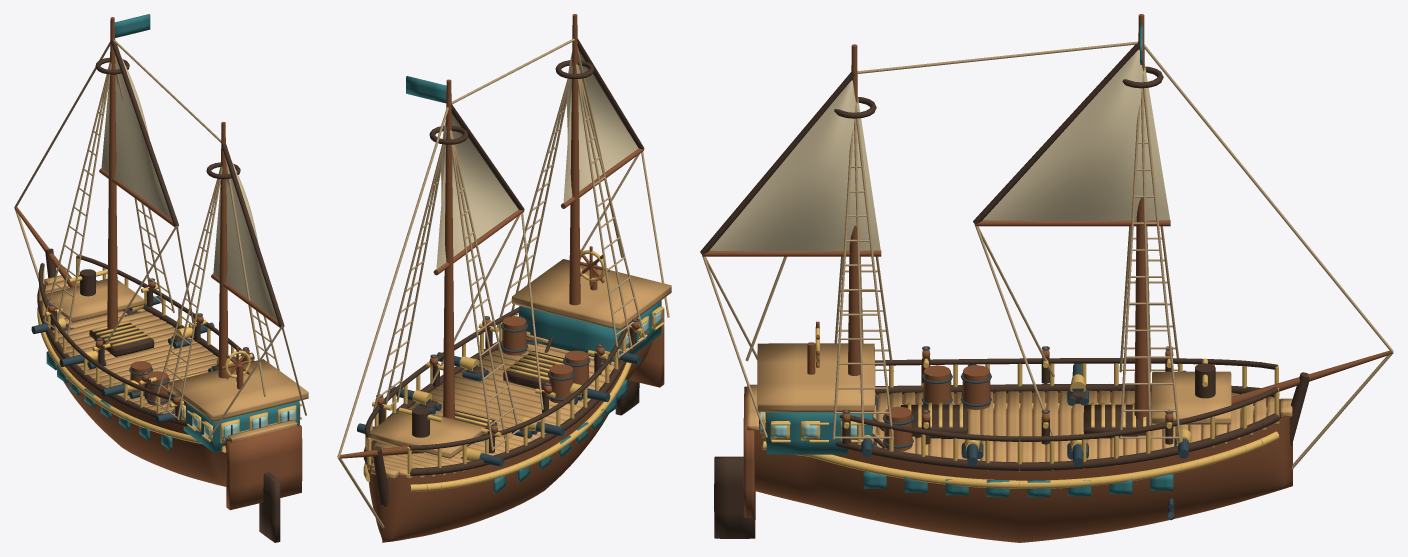
File: caravel.glb
3 renders of one model, left to right at view 1: azimuth 30°, elevation 25°; view 2: azimuth 150°, elevation 25°; view 3: azimuth 270°, elevation 25°, orthographic. The views are drawn at different scales.
Visible parts, largest first — view 1: _MeshInstance3D_5, _MeshInstance3D_6, _MeshInstance3D_10, _MeshInstance3D_11, _MeshInstance3D_8, _MeshInstance3D_3, _MeshInstance3D_4, _MeshInstance3D_7, _MeshInstance3D_12, _MeshInstance3D_9; view 2: _MeshInstance3D_5, _MeshInstance3D_6, _MeshInstance3D_11, _MeshInstance3D_10, _MeshInstance3D_8, _MeshInstance3D_7, _MeshInstance3D_3, _MeshInstance3D_4, _MeshInstance3D_12; view 3: _MeshInstance3D_5, _MeshInstance3D_6, _MeshInstance3D_10, _MeshInstance3D_11, _MeshInstance3D_3, _MeshInstance3D_4, _MeshInstance3D_8, _MeshInstance3D_7, _MeshInstance3D_12.
Boxes of the visible parts, left/top/right/bottom form: _MeshInstance3D_5: left=14, top=17, right=302, bottom=510; _MeshInstance3D_6: left=44, top=275, right=308, bottom=441; _MeshInstance3D_10: left=37, top=39, right=295, bottom=542; _MeshInstance3D_11: left=15, top=39, right=306, bottom=439; _MeshInstance3D_8: left=37, top=255, right=301, bottom=452; _MeshInstance3D_3: left=101, top=54, right=171, bottom=219; _MeshInstance3D_4: left=213, top=160, right=277, bottom=320; _MeshInstance3D_7: left=46, top=14, right=299, bottom=453; _MeshInstance3D_12: left=31, top=278, right=254, bottom=423; _MeshInstance3D_9: left=181, top=407, right=294, bottom=440; _MeshInstance3D_5: left=337, top=14, right=664, bottom=542; _MeshInstance3D_6: left=365, top=259, right=671, bottom=479; _MeshInstance3D_11: left=337, top=38, right=669, bottom=528; _MeshInstance3D_10: left=363, top=38, right=644, bottom=506; _MeshInstance3D_8: left=363, top=250, right=664, bottom=491; _MeshInstance3D_7: left=406, top=76, right=661, bottom=493; _MeshInstance3D_3: left=436, top=114, right=518, bottom=269; _MeshInstance3D_4: left=563, top=51, right=638, bottom=203; _MeshInstance3D_12: left=357, top=291, right=641, bottom=466; _MeshInstance3D_5: left=702, top=14, right=1392, bottom=542; _MeshInstance3D_6: left=747, top=343, right=1292, bottom=462; _MeshInstance3D_10: left=700, top=41, right=1309, bottom=538; _MeshInstance3D_11: left=701, top=41, right=1393, bottom=469; _MeshInstance3D_3: left=983, top=49, right=1169, bottom=220; _MeshInstance3D_4: left=709, top=80, right=880, bottom=251; _MeshInstance3D_8: left=762, top=327, right=1279, bottom=488; _MeshInstance3D_7: left=765, top=23, right=1173, bottom=497; _MeshInstance3D_12: left=842, top=346, right=1189, bottom=520.
Size of the model in its own units: 2.83 by 7.23 by 8.7.
